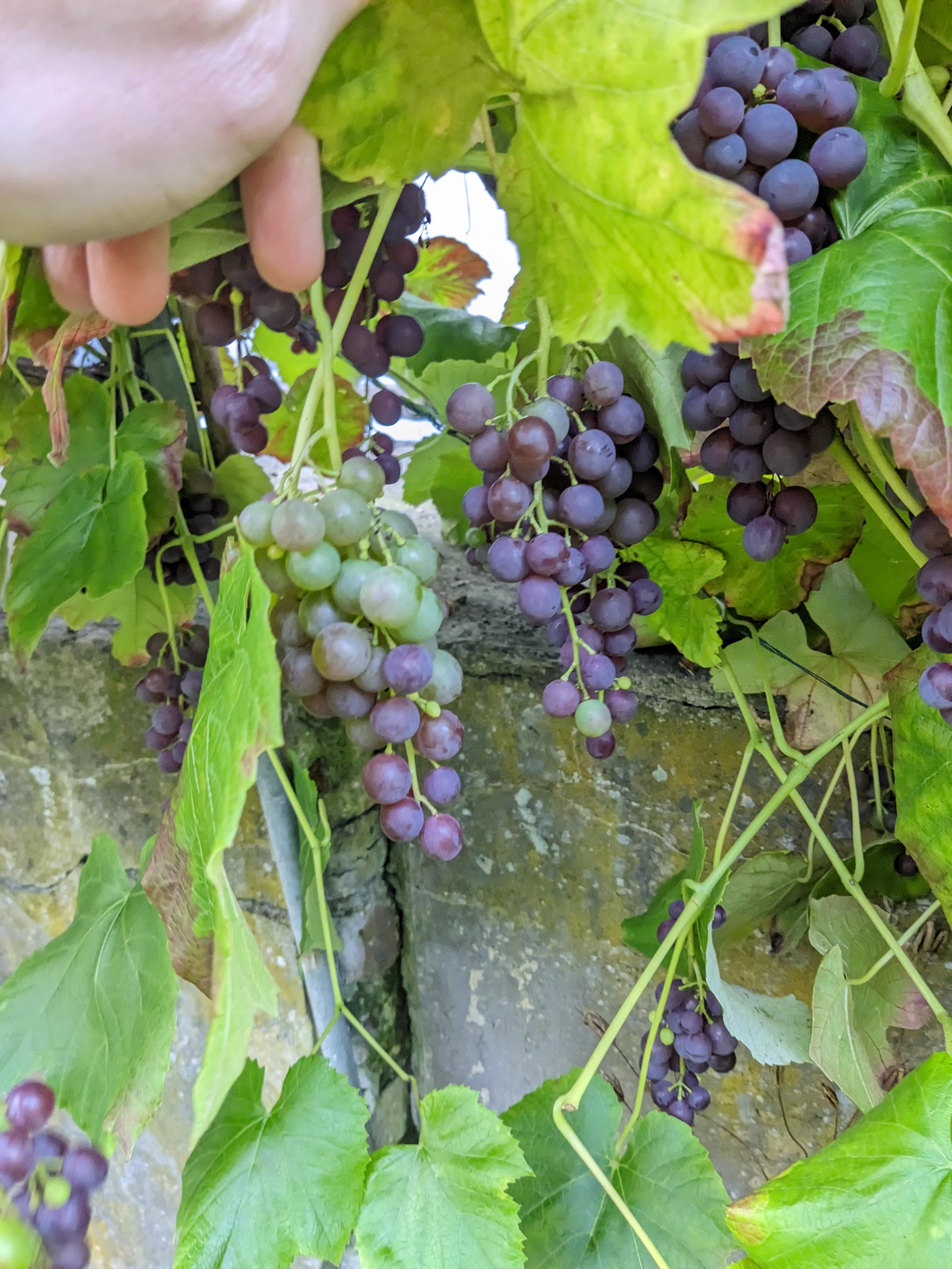Grape Unripe: (438, 292, 668, 765), (235, 441, 461, 861), (195, 166, 439, 438), (658, 0, 901, 267), (133, 442, 226, 785), (620, 887, 742, 1123), (2, 1080, 117, 1269)
